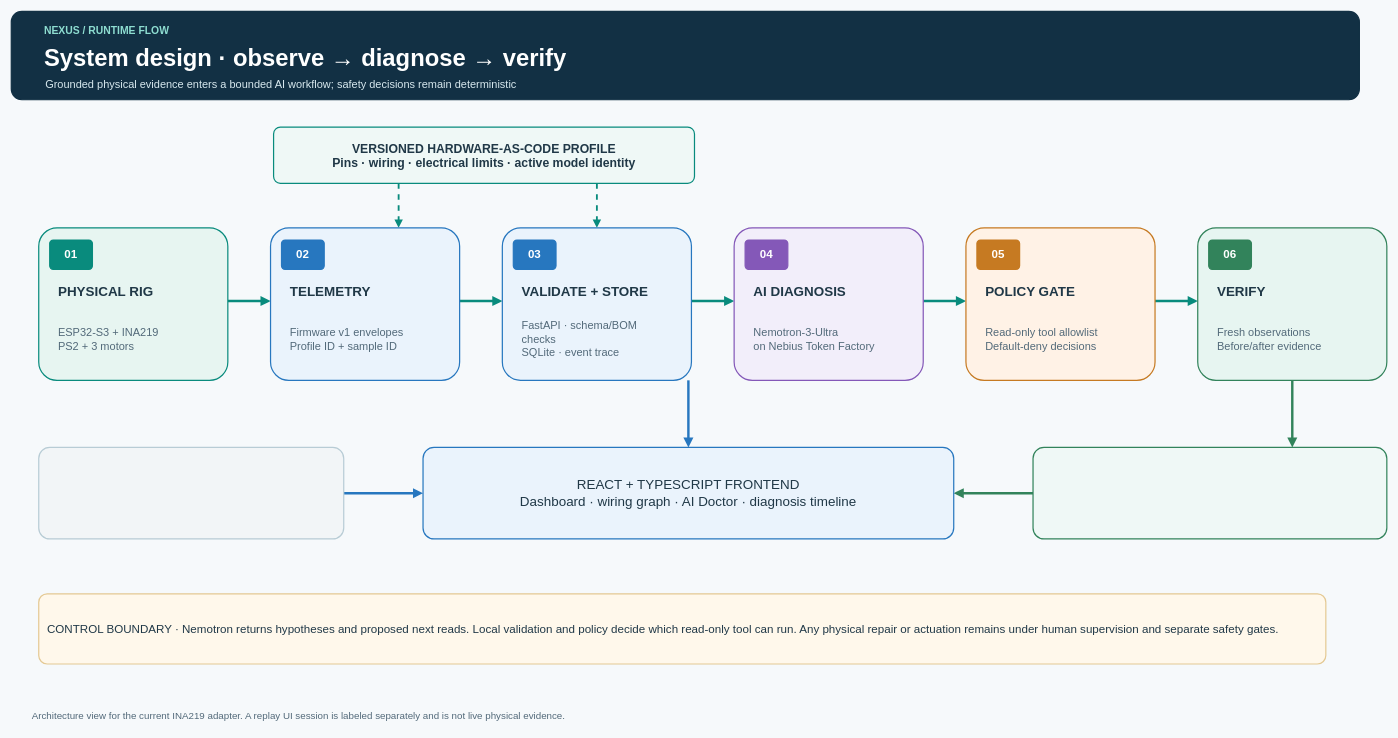
Some shapes in this 1398 by 738 pixel diagram are drawn without their labels. Here are the shapes that lost their labels. From the top down, the centre of each, then its label:
At (x=191, y=493): "USER / TECHNICIAN Symptom, supervised inspection, approval".
At (x=1209, y=493): "EVIDENCE RECORD Trace ID · model metadata · policy outcome".
